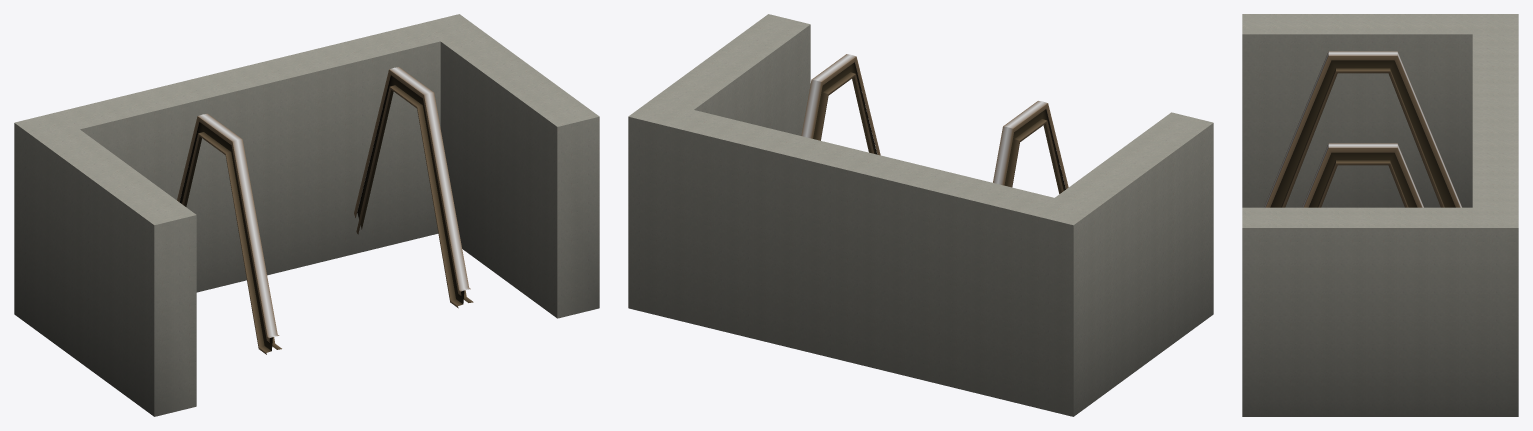
File: CAR_STOP.glb
3 renders of one model, left to right at view 1: azimuth 30°, elevation 25°; view 2: azimuth 150°, elevation 25°; view 3: azimuth 270°, elevation 25°, orthographic.
Visible parts, largest first — view 1: FRAME_ROOT; view 2: FRAME_ROOT; view 3: FRAME_ROOT.
Part boxes in pixels (bbox=[...]): FRAME_ROOT: bbox=[14, 14, 599, 416]; FRAME_ROOT: bbox=[628, 14, 1213, 416]; FRAME_ROOT: bbox=[1242, 14, 1518, 416].
Size of the model in its own units: 11 by 5.05 by 6.
2 materials, 1 textured.
